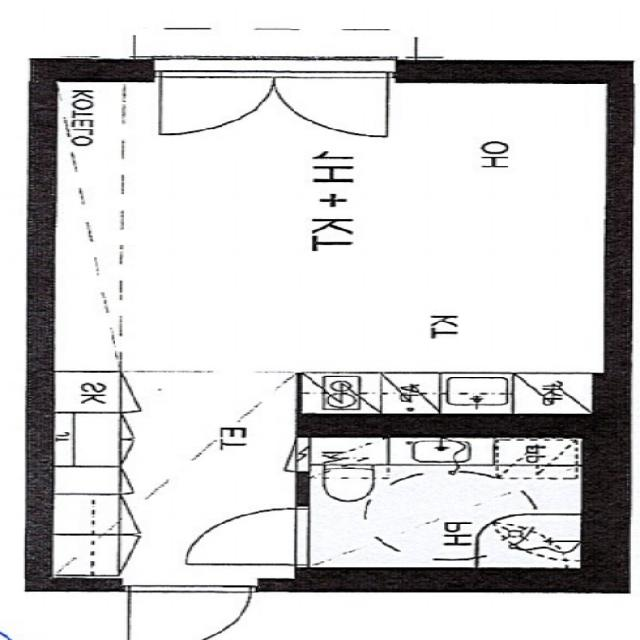door: (160, 61, 276, 142), (276, 61, 390, 142), (128, 577, 252, 640), (188, 507, 311, 564)
